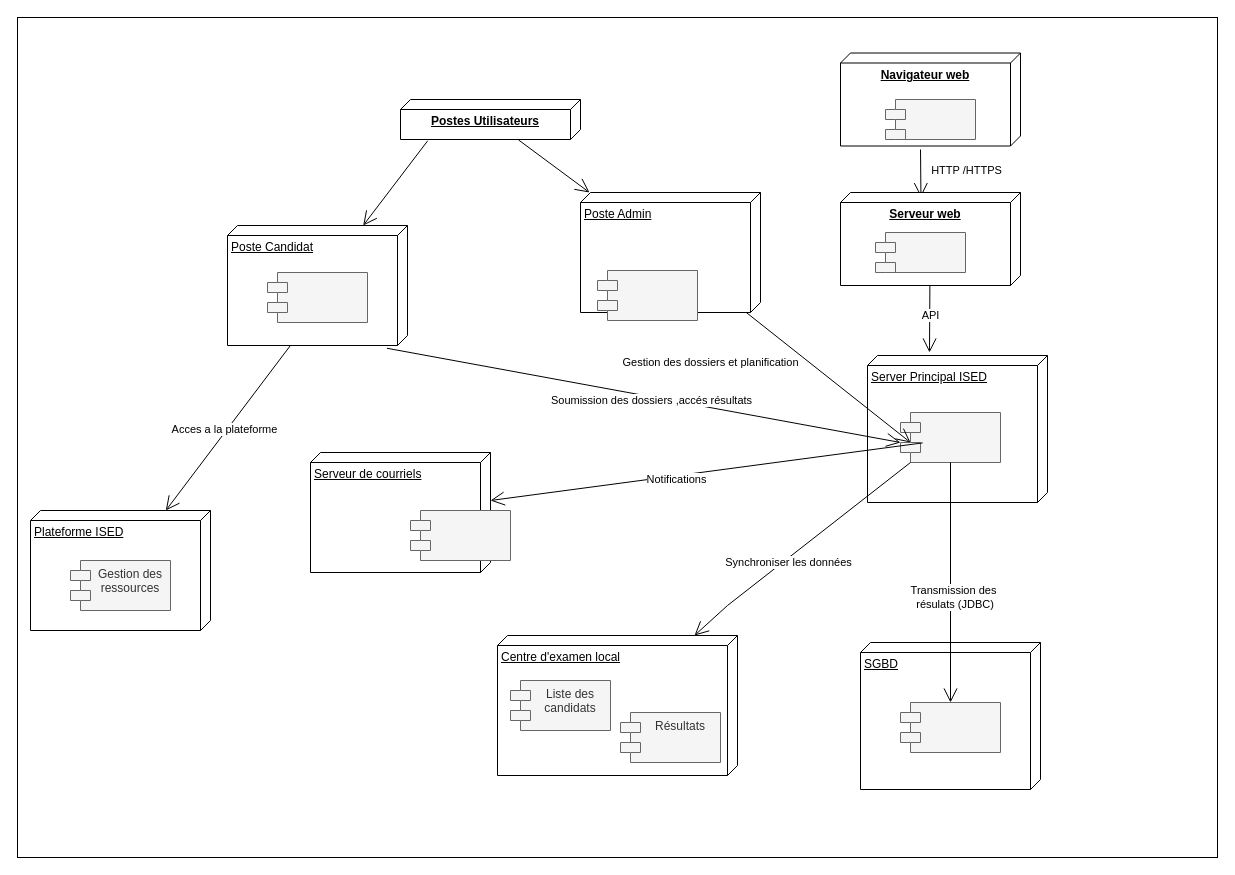
This 1235x875 diagram has some shape labels left out. The shapes that lost their labels are listed below. From the top down, each one's centre as x and y in pixels, then its label:
At pixel 930 119: "Chrome".
At pixel 920 252: "Apache".
At pixel 317 297: "Interface Candidat".
At pixel 647 295: "Interface Admin".
At pixel 950 437: "Application de gestion ISED".
At pixel 460 535: "SMTP Server".
At pixel 950 727: "Base de données ISED".
